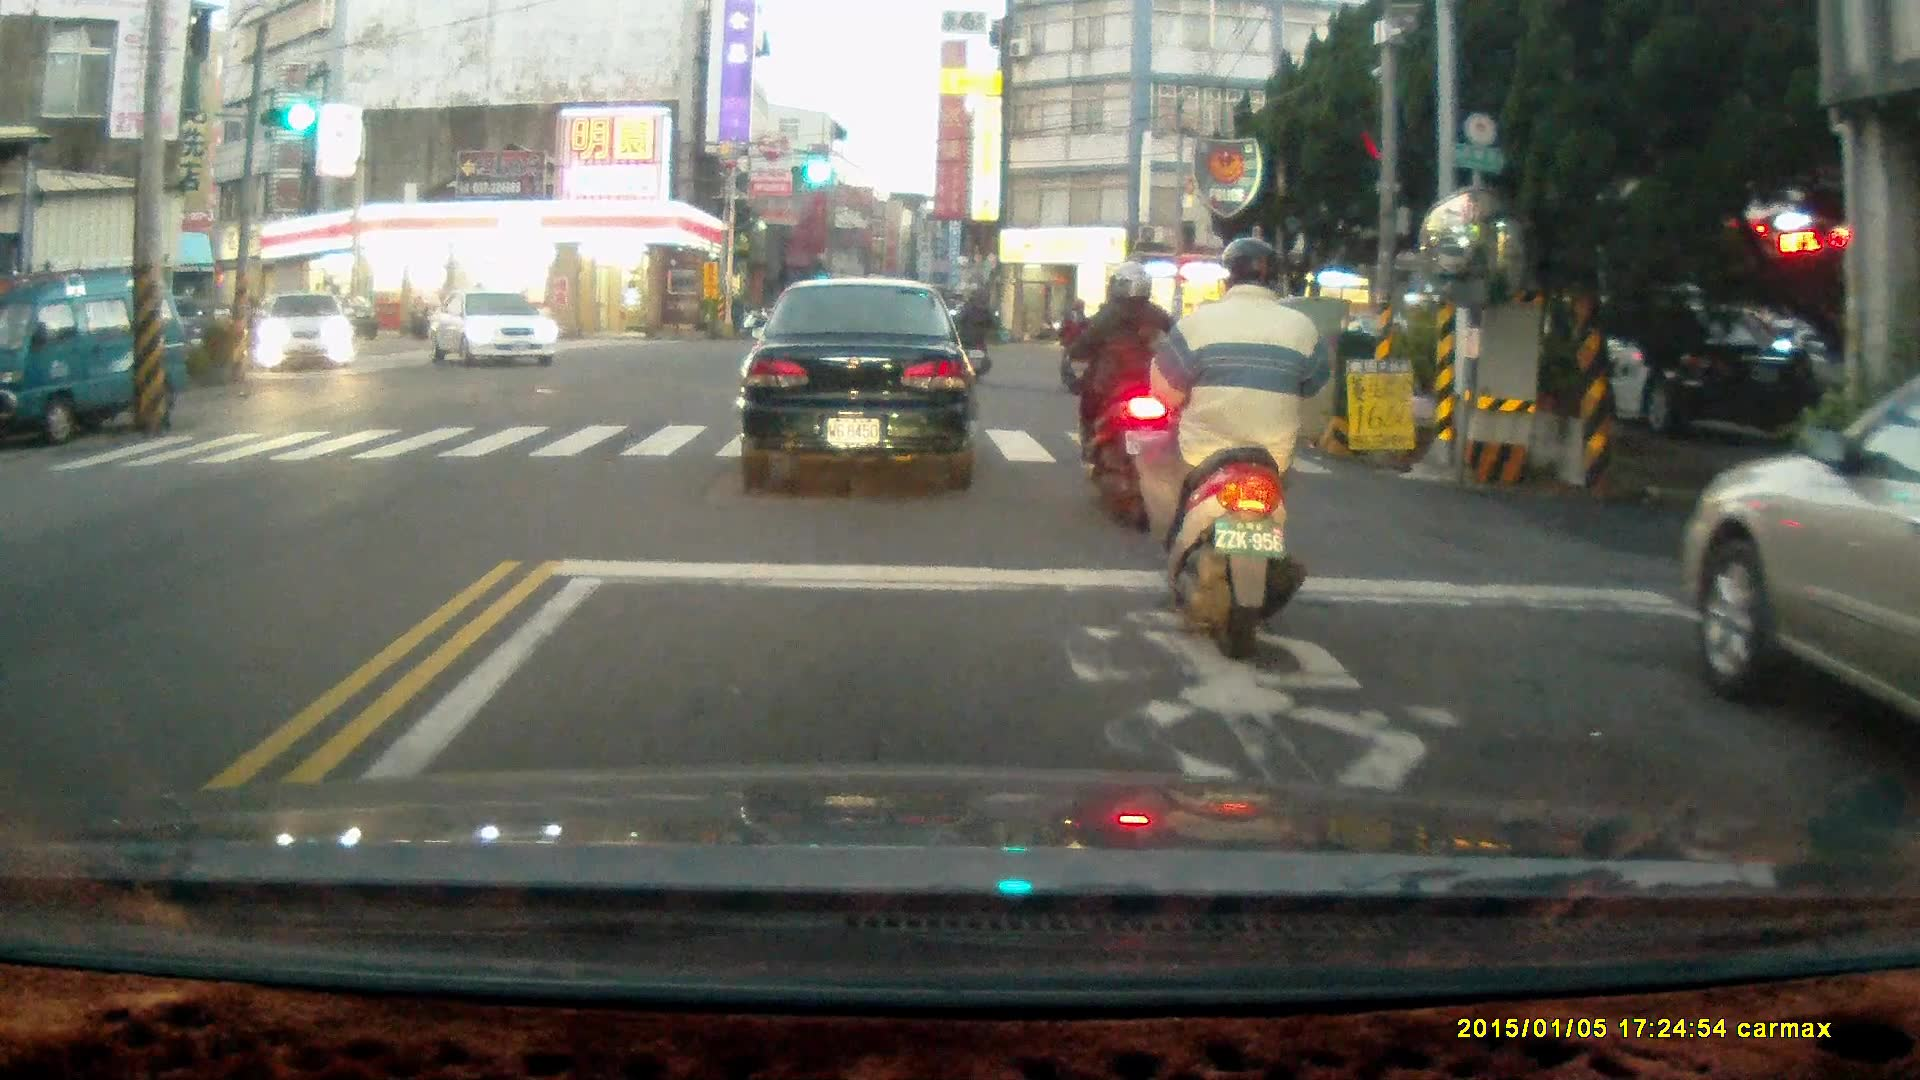rider: (1139, 234, 1341, 654), (1052, 255, 1188, 525), (946, 287, 997, 381), (1050, 296, 1095, 395)
vehicle: (1680, 347, 1920, 789), (736, 277, 981, 491), (1479, 289, 1819, 440), (1, 268, 196, 449), (425, 288, 562, 370), (250, 293, 360, 374)
